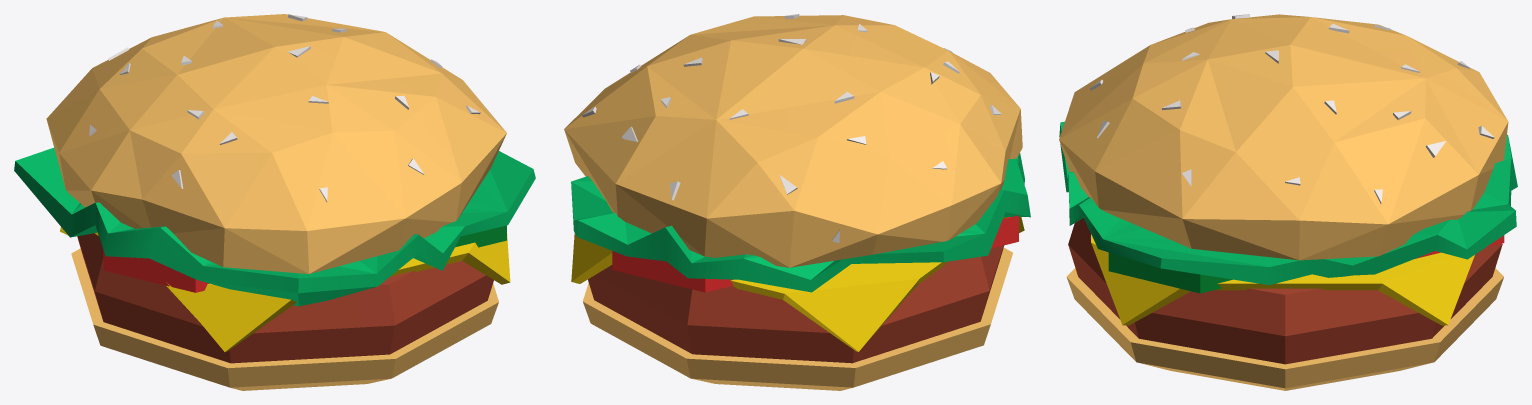
Rendered from burger_001.obj.
3 views of the same model, side by side, from view 1: azimuth 30°, elevation 25°; view 2: azimuth 150°, elevation 25°; view 3: azimuth 270°, elevation 25° (orthographic).
Parts seen in each view (by area): view 1: burger_001; view 2: burger_001; view 3: burger_001.
Part boxes in pixels (bbox=[...]): burger_001: bbox=[14, 14, 535, 390]; burger_001: bbox=[564, 14, 1030, 390]; burger_001: bbox=[1059, 14, 1517, 390].
Bounding box in the file's own units: 0.1216 × 0.0805 × 0.1224.
